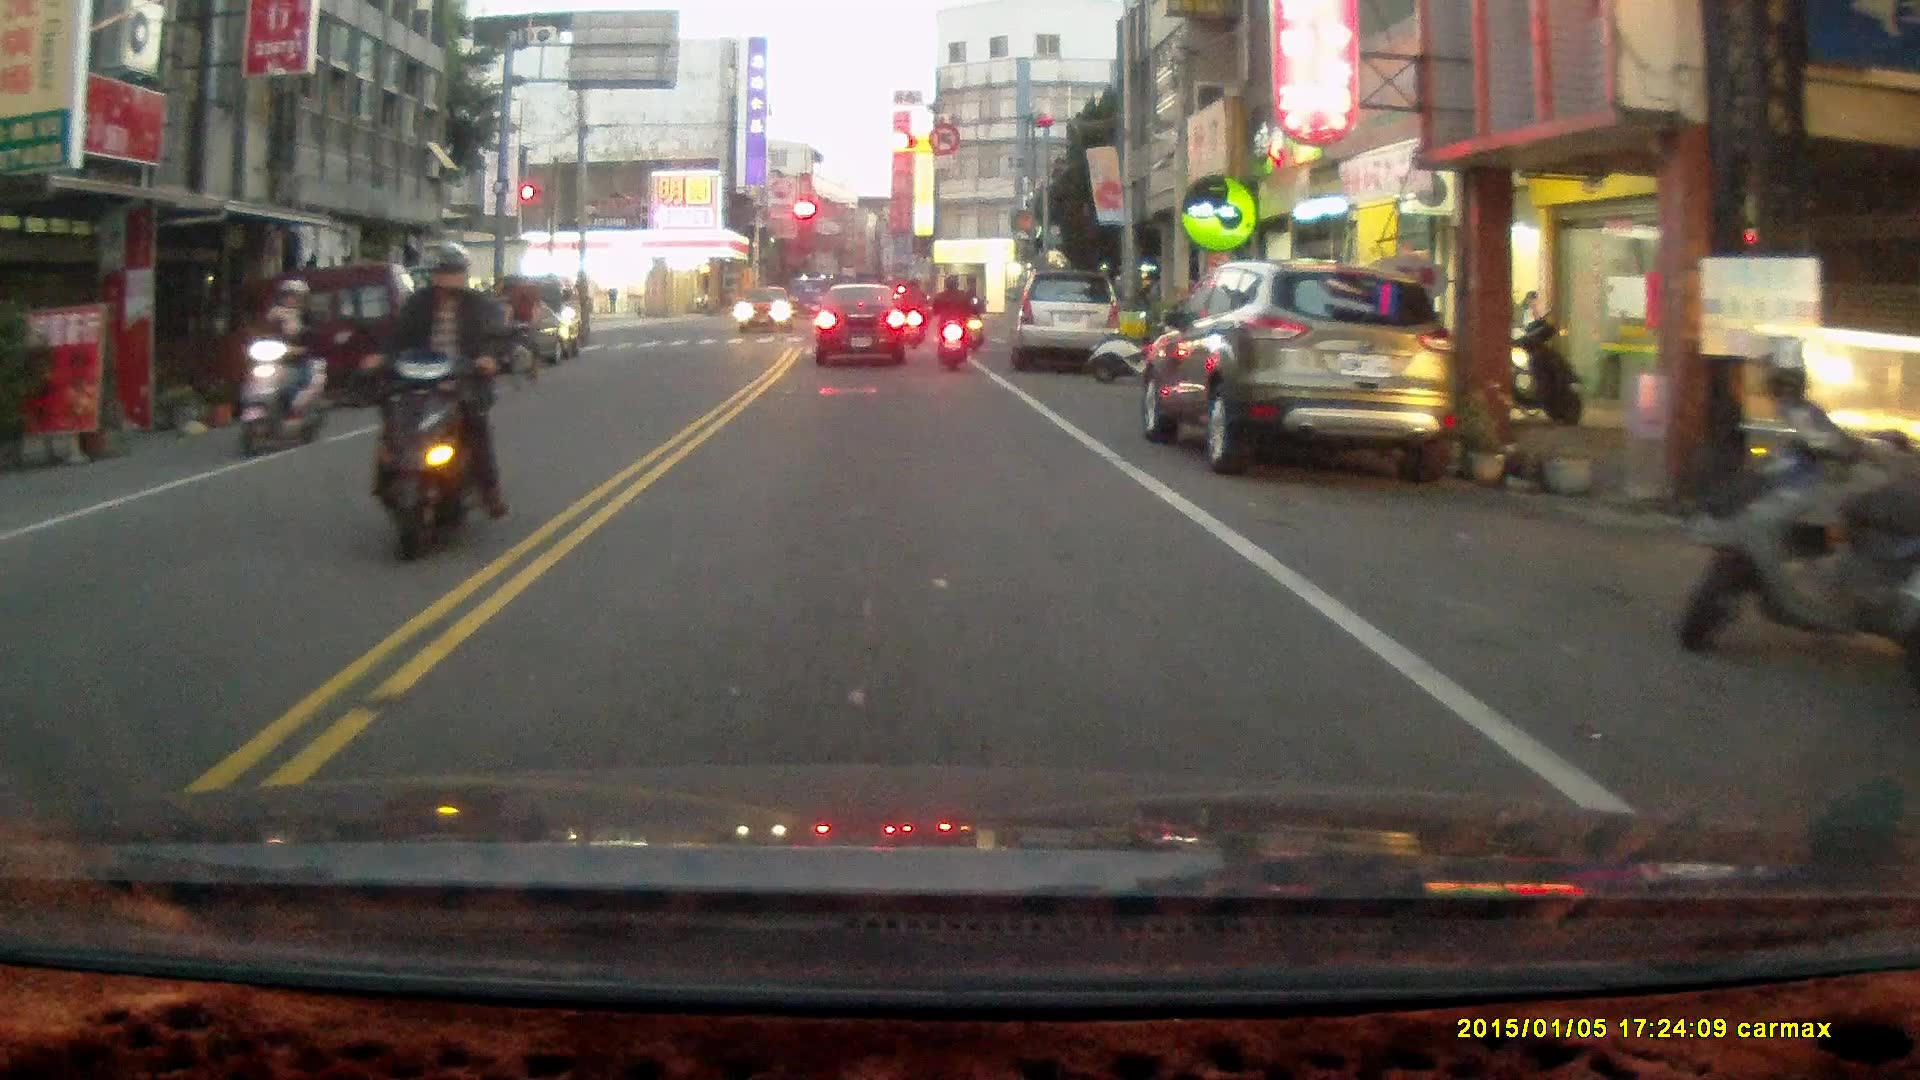rider: (355, 237, 511, 559), (233, 278, 330, 457), (496, 268, 539, 392), (925, 269, 972, 371), (896, 271, 929, 345), (959, 278, 986, 350)
vehicle: (1147, 257, 1451, 482), (184, 263, 435, 414), (1013, 271, 1124, 374), (815, 281, 912, 362), (729, 276, 791, 330)
